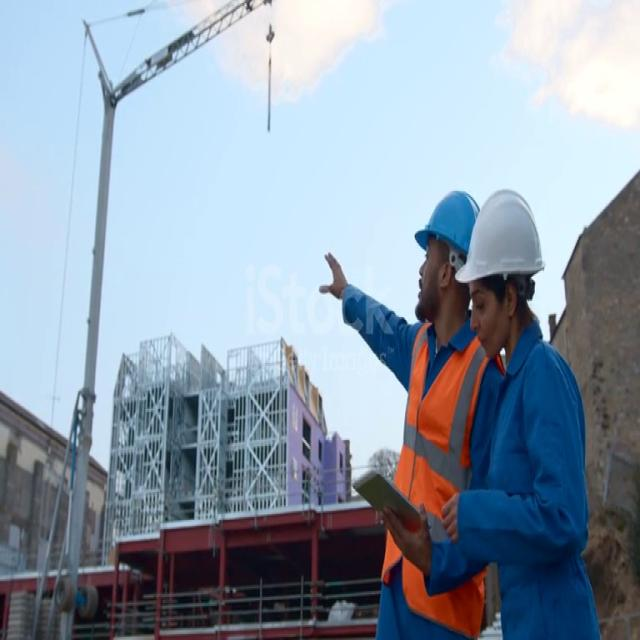capacete: (456, 184, 550, 328), (398, 167, 477, 282)
